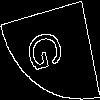G: (25, 25, 71, 75)
